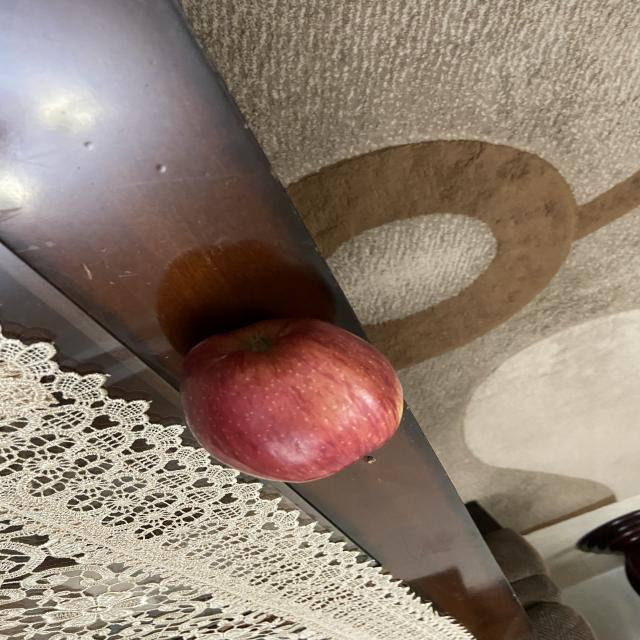apple: (172, 313, 409, 489)
